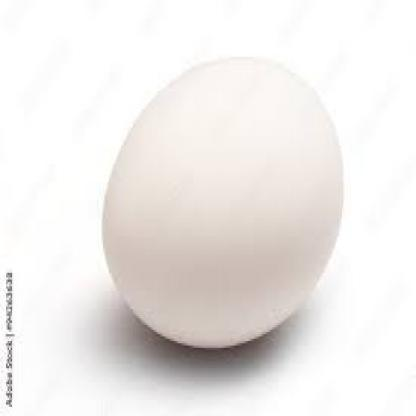egg: (98, 55, 349, 354)
